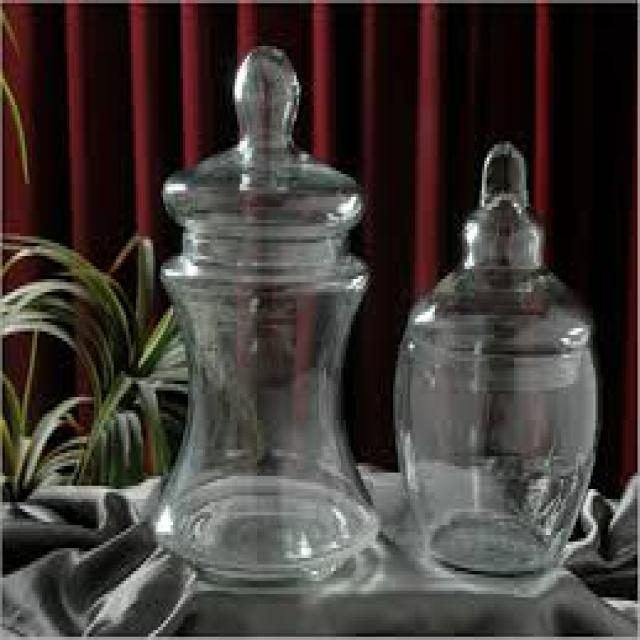glass: (148, 43, 381, 584), (390, 138, 598, 574)
